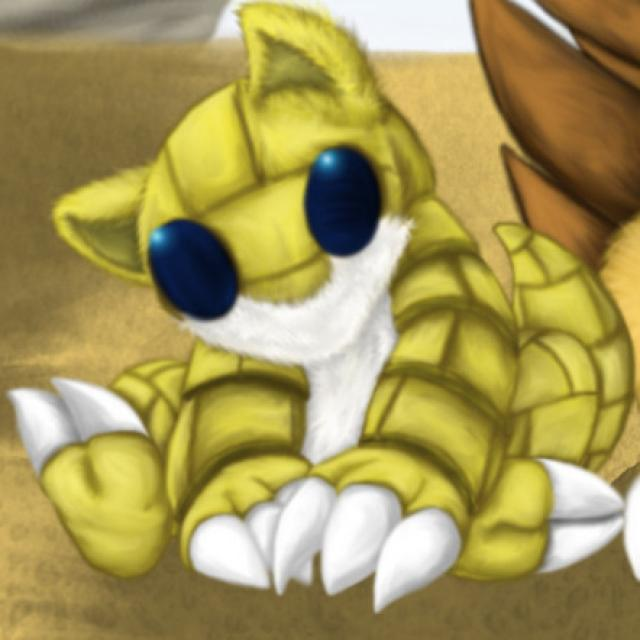Sandshrew: (43, 11, 630, 576)
